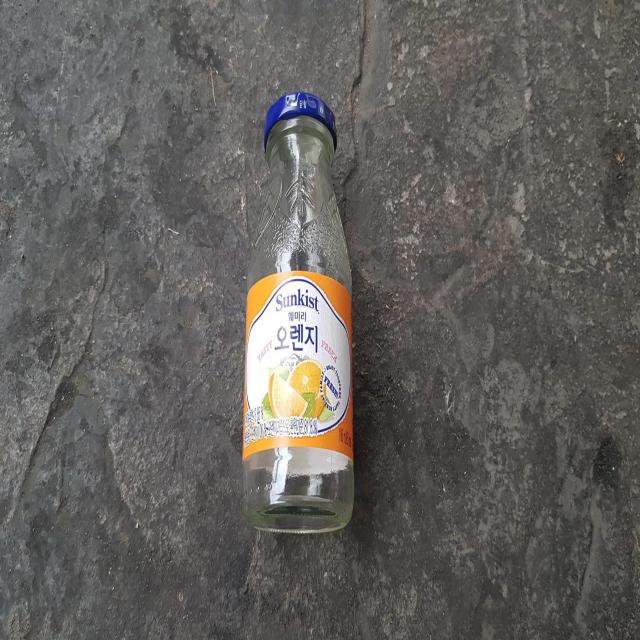glass: (242, 91, 354, 532)
